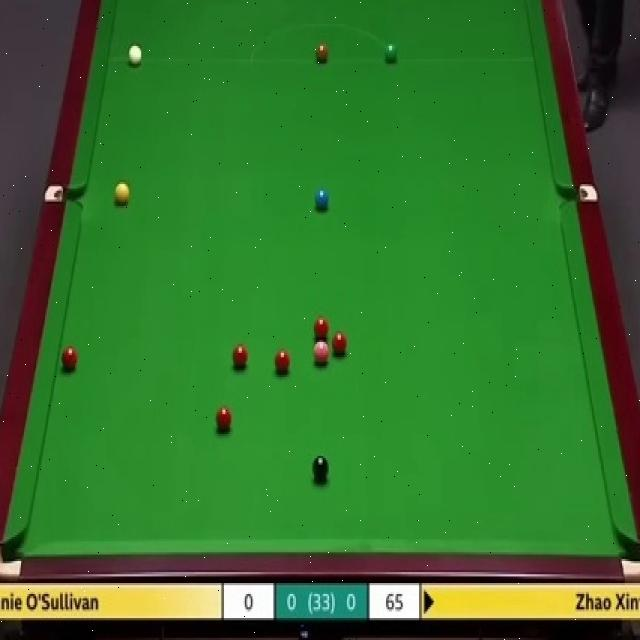black-ball: (311, 454, 330, 482)
blue-ball: (312, 188, 329, 211)
brown-ball: (315, 39, 328, 61)
green-ball: (383, 43, 398, 62)
pink-ball: (313, 338, 330, 369)
red-ball: (272, 348, 294, 374), (62, 344, 79, 374), (214, 405, 232, 433), (233, 343, 249, 371), (331, 332, 348, 357), (313, 316, 329, 338)
white-ball: (127, 44, 143, 69)
yellow-ball: (113, 177, 130, 208)
